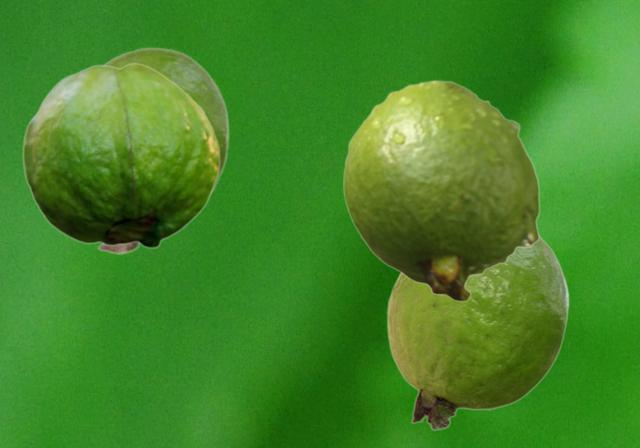guava: (342, 79, 539, 301), (22, 62, 219, 248), (386, 234, 568, 430), (96, 46, 229, 254)
